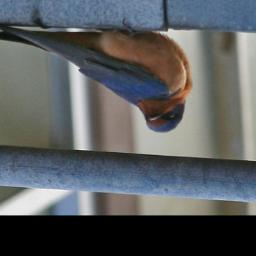Swallow: (0, 14, 193, 134)
